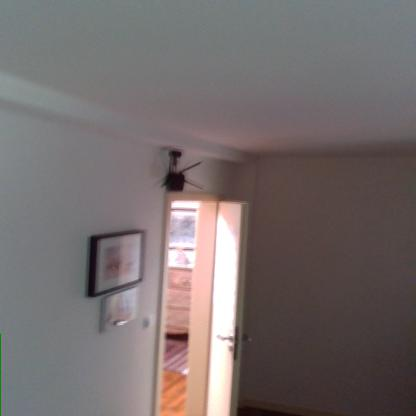semi: (146, 186, 260, 416)
